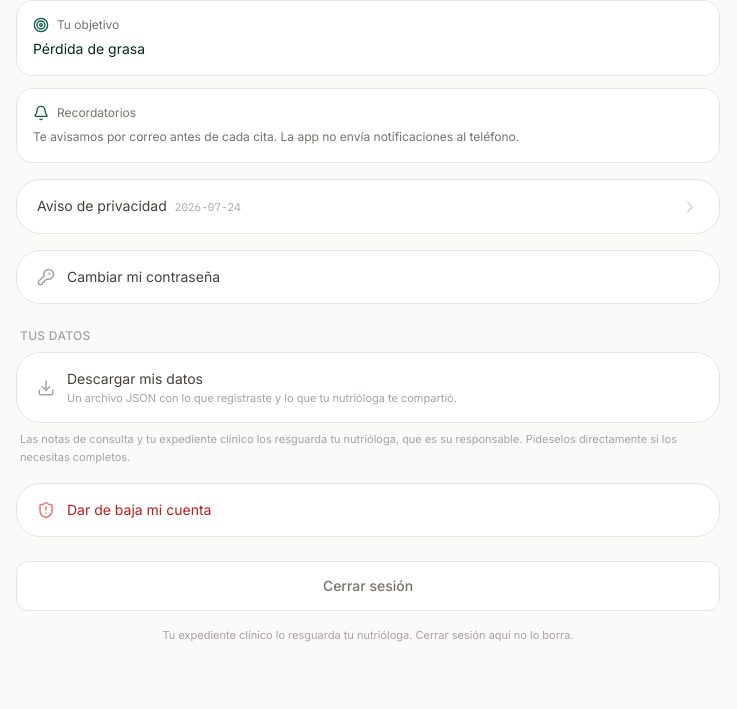
Test case: derechos ARCO › deja reintentar si la contraseña de la baja es incorrecta
(page scrolled)
Step 1. Click the button "Dar de baja mi cuenta" → (139,509), box [16, 483, 720, 537]
(page scrolled)
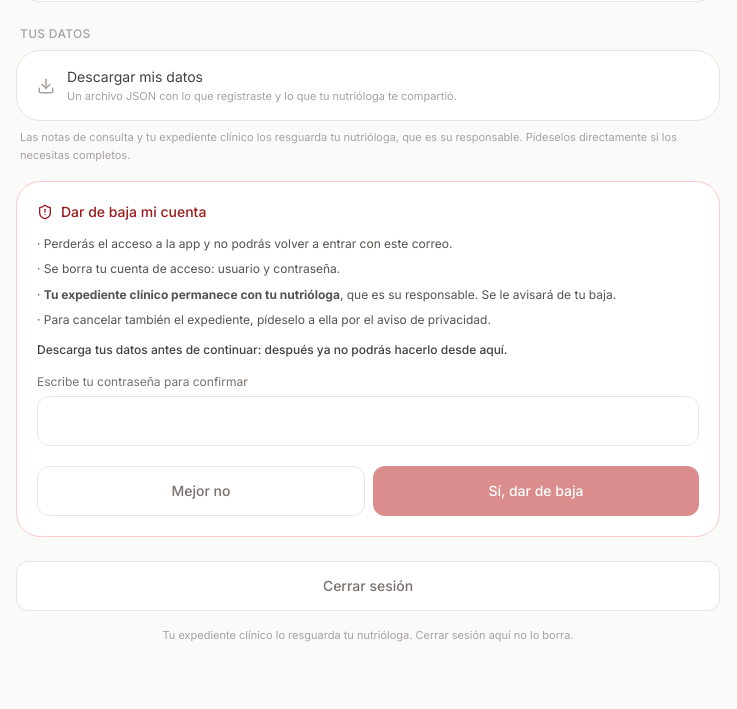
Step 2. Type "mala" into the password field labelled "Escribe tu contraseña para confirmar" → (368,421), box [37, 396, 699, 446]
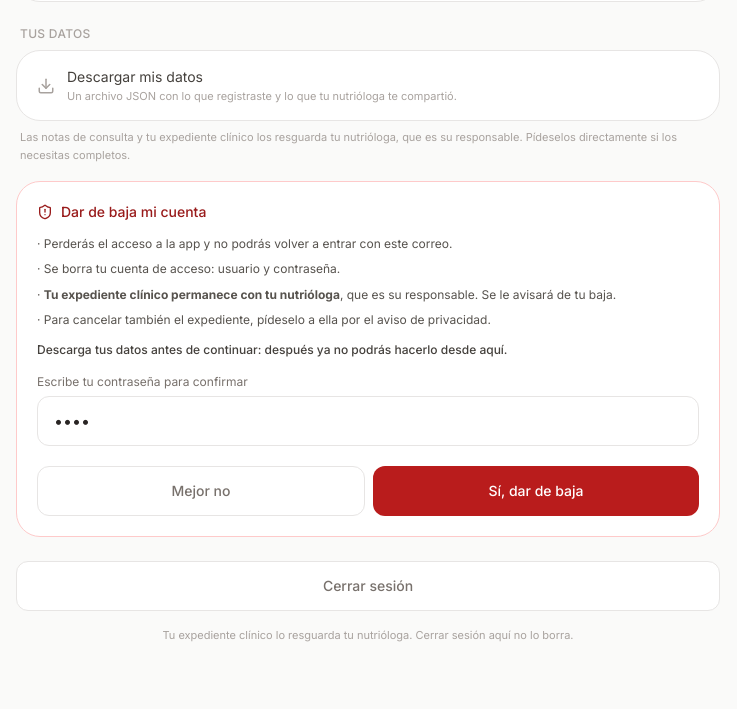
Step 3. Click the button "Sí, dar de baja" → (536,491), box [373, 466, 699, 516]
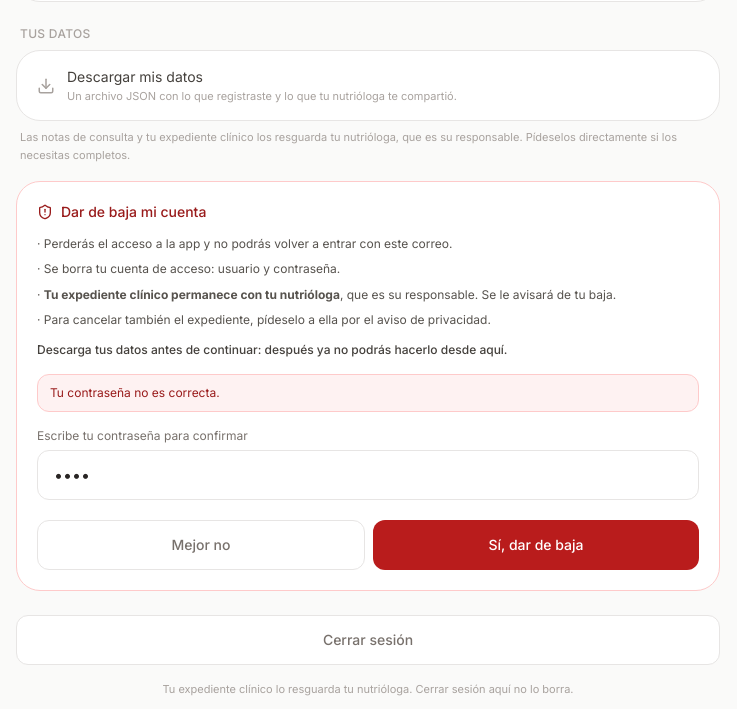
Check: the message shows "no es correcta", box [50, 385, 220, 400]
